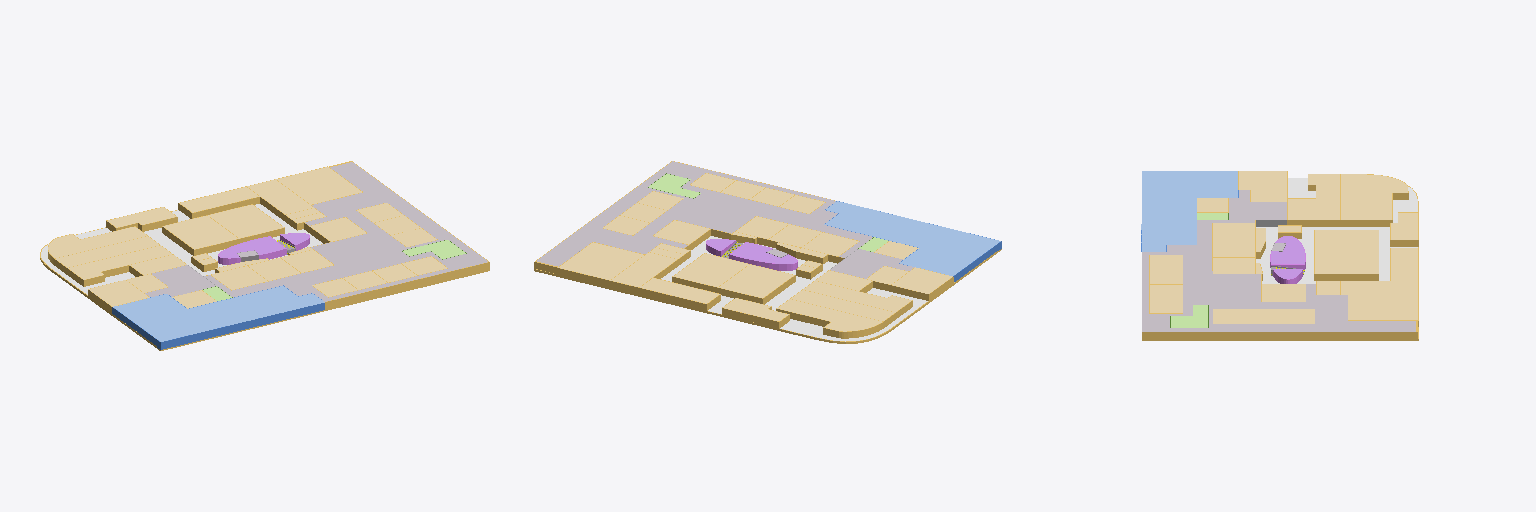
Rendered from logix_noicon_secondfloor.obj.
The picture shows the model from 3 angles: view 1: azimuth 30°, elevation 25°; view 2: azimuth 150°, elevation 25°; view 3: azimuth 270°, elevation 25°; orthographic projection.
Parts seen in each view (by area): view 1: second_floor; view 2: second_floor; view 3: second_floor.
Boxes of the visible parts, x1=… form: second_floor: x1=40, y1=161, x2=489, y2=350; second_floor: x1=534, y1=161, x2=1001, y2=343; second_floor: x1=1141, y1=171, x2=1418, y2=340.
Bounding box in the file's own units: 32.65 × 0.8725 × 23.8.